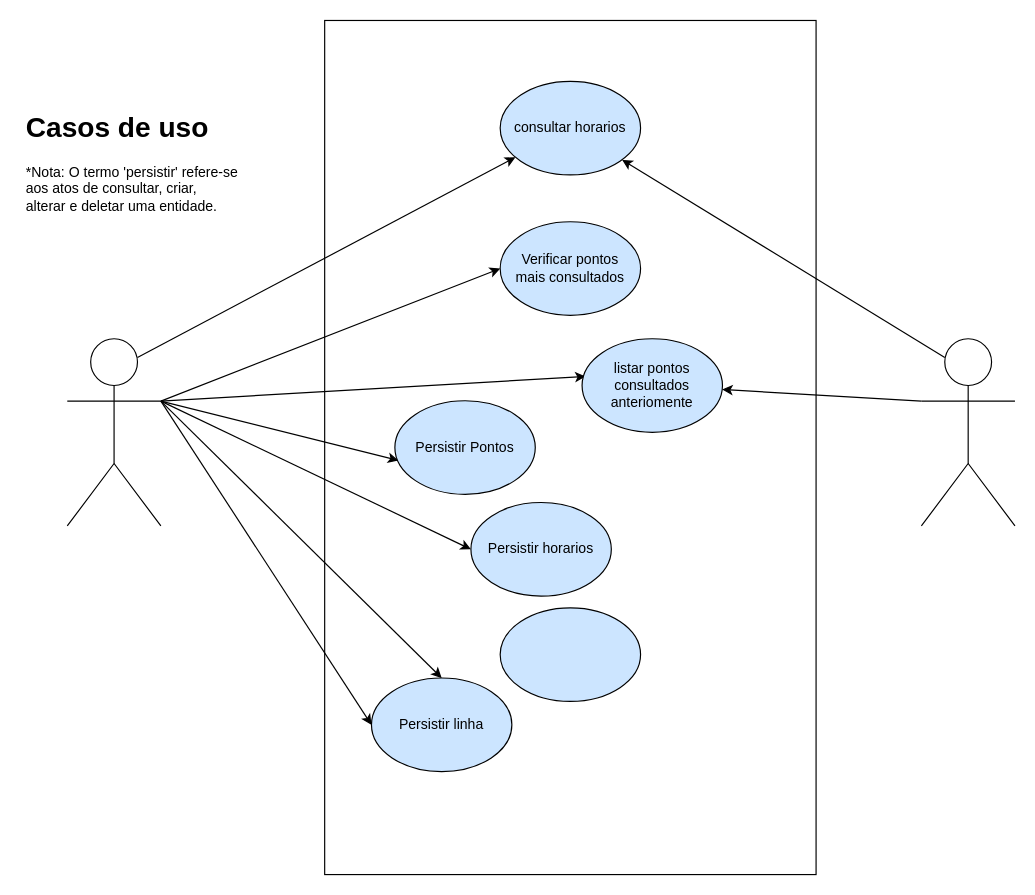
This 1035x895 diagram has some shape labels left out. The shapes that lost their labels are listed below. From the top down, each one's box as (x1, y1, x2, y2) in pixels, then its label:
(66, 338, 161, 526): Gestor
(920, 338, 1015, 526): Passageiro
(499, 607, 641, 701): Persistir onibus
